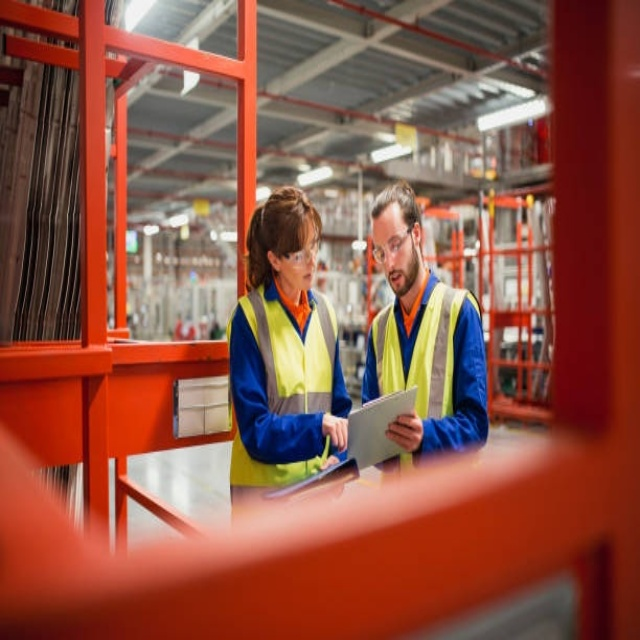Gafas: (371, 225, 414, 265), (278, 240, 319, 265)
Sin_guantes: (384, 409, 425, 450), (321, 411, 350, 452)
Sin_mascara: (296, 265, 316, 295), (385, 265, 405, 289)
